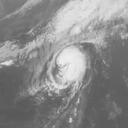cyclone: (50, 43, 87, 87)
